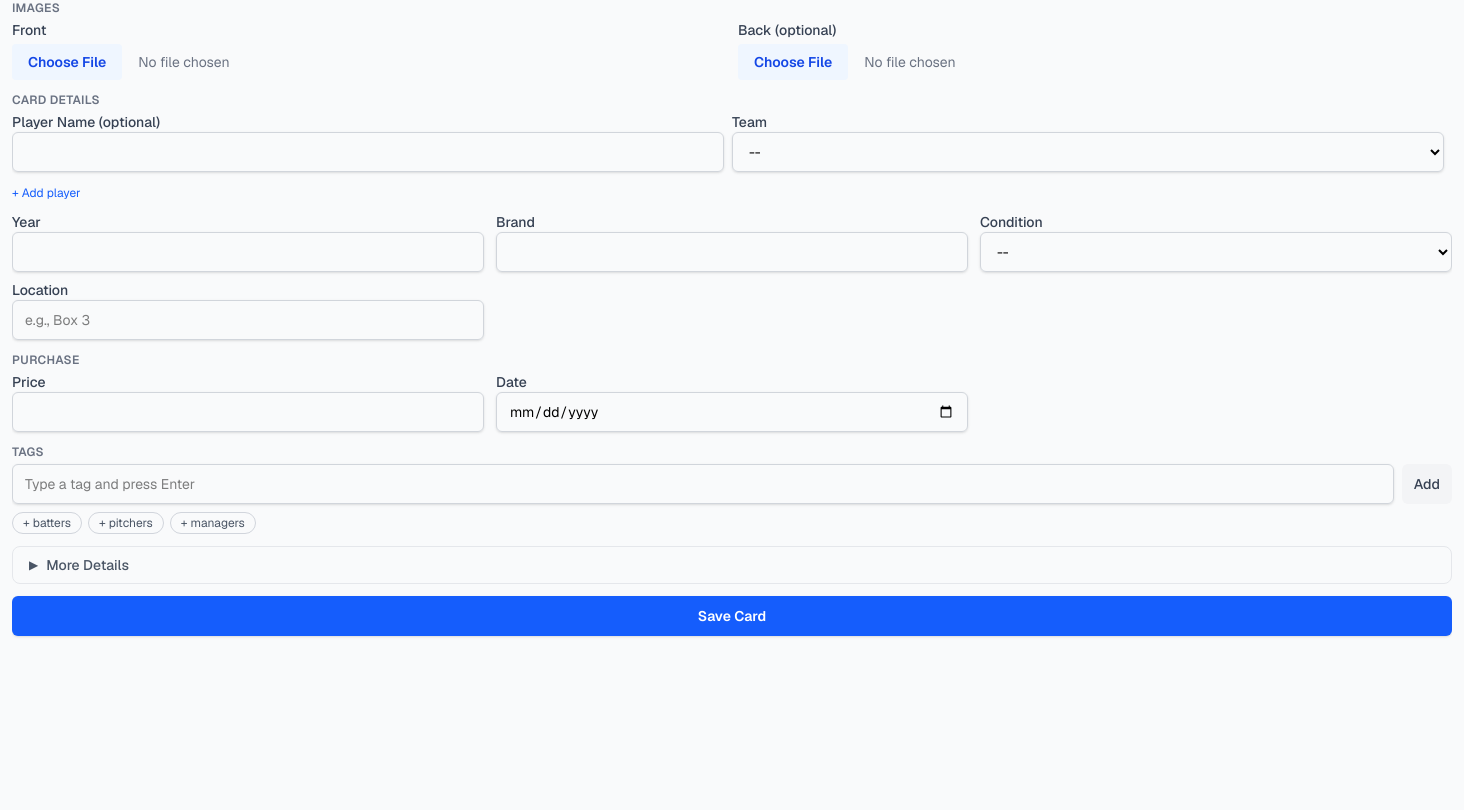
it: CardForm › should show collapsed fields after clicking More Details
Check: the field labelled "set" is not shown
Check: the field labelled "notes" is not shown
Step 1. Click the button "▶ More Details" → (88, 565), box [13, 547, 1451, 583]
(page scrolled)
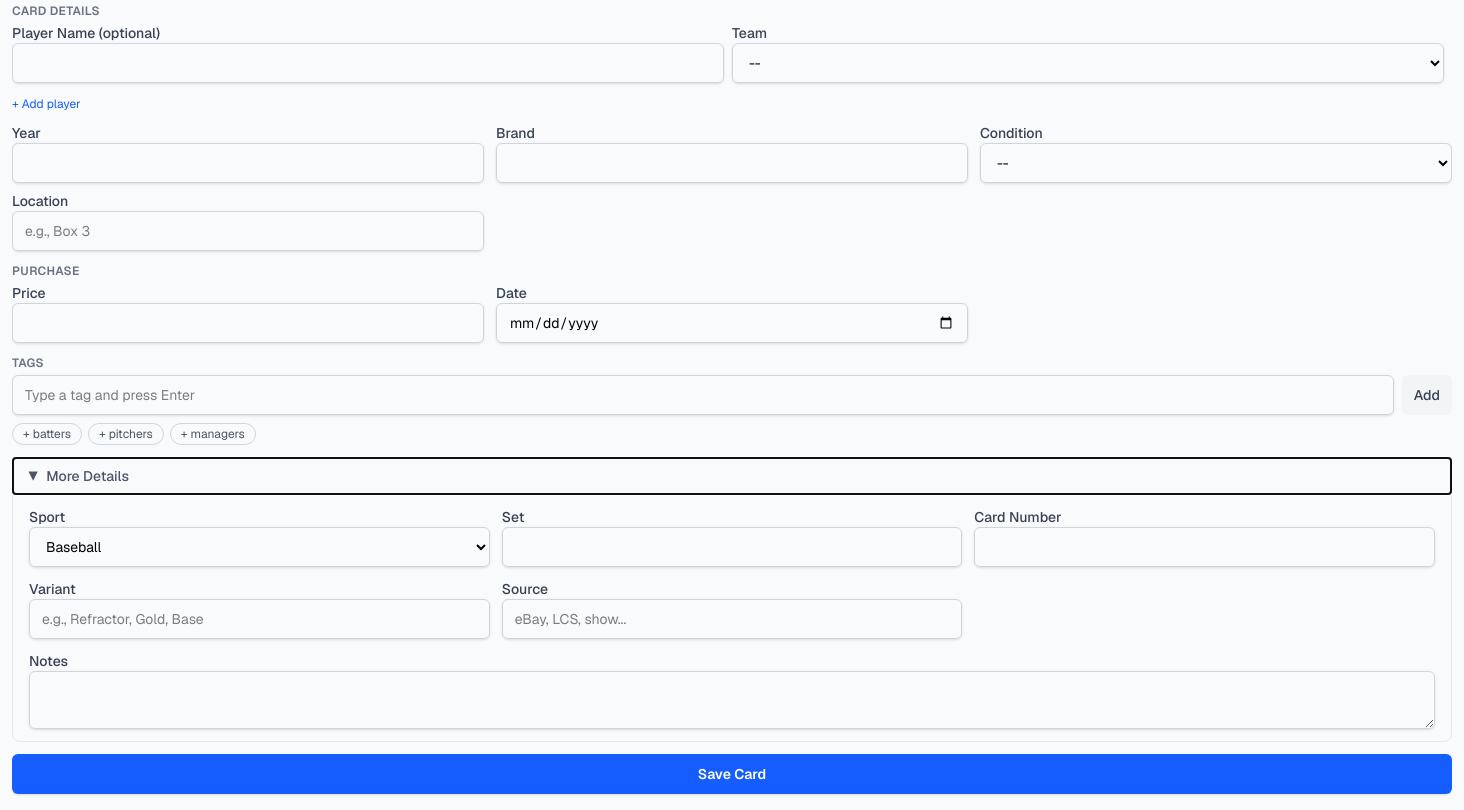
Check: the field labelled "Set" is shown, box [502, 527, 962, 567]
Check: the field labelled "Card Number" is shown, box [974, 527, 1435, 567]
Check: the text box labelled "Notes" is shown, box [29, 671, 1435, 729]
